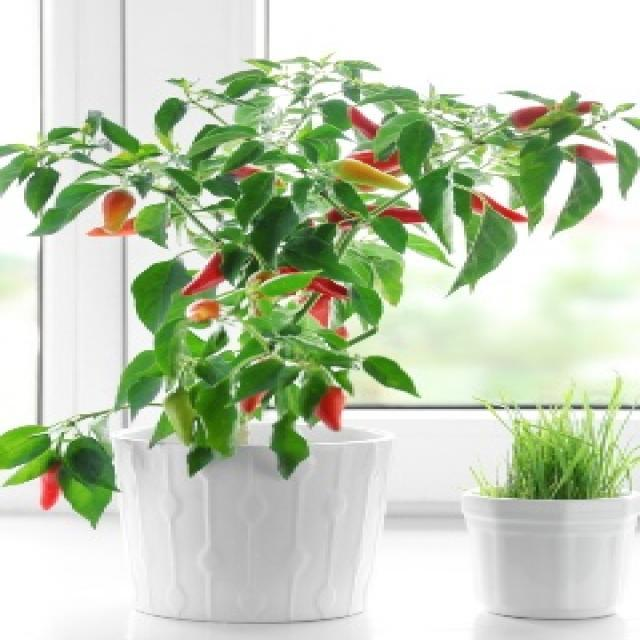plant: (0, 59, 637, 477), (0, 412, 120, 524)
